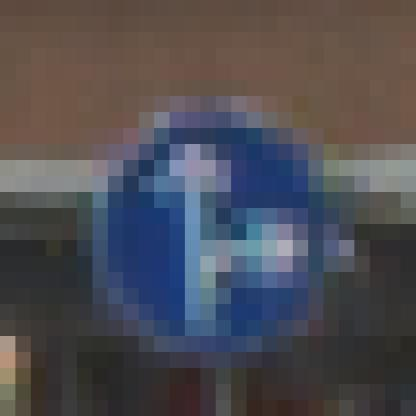Straight or Right: (78, 81, 340, 337)
